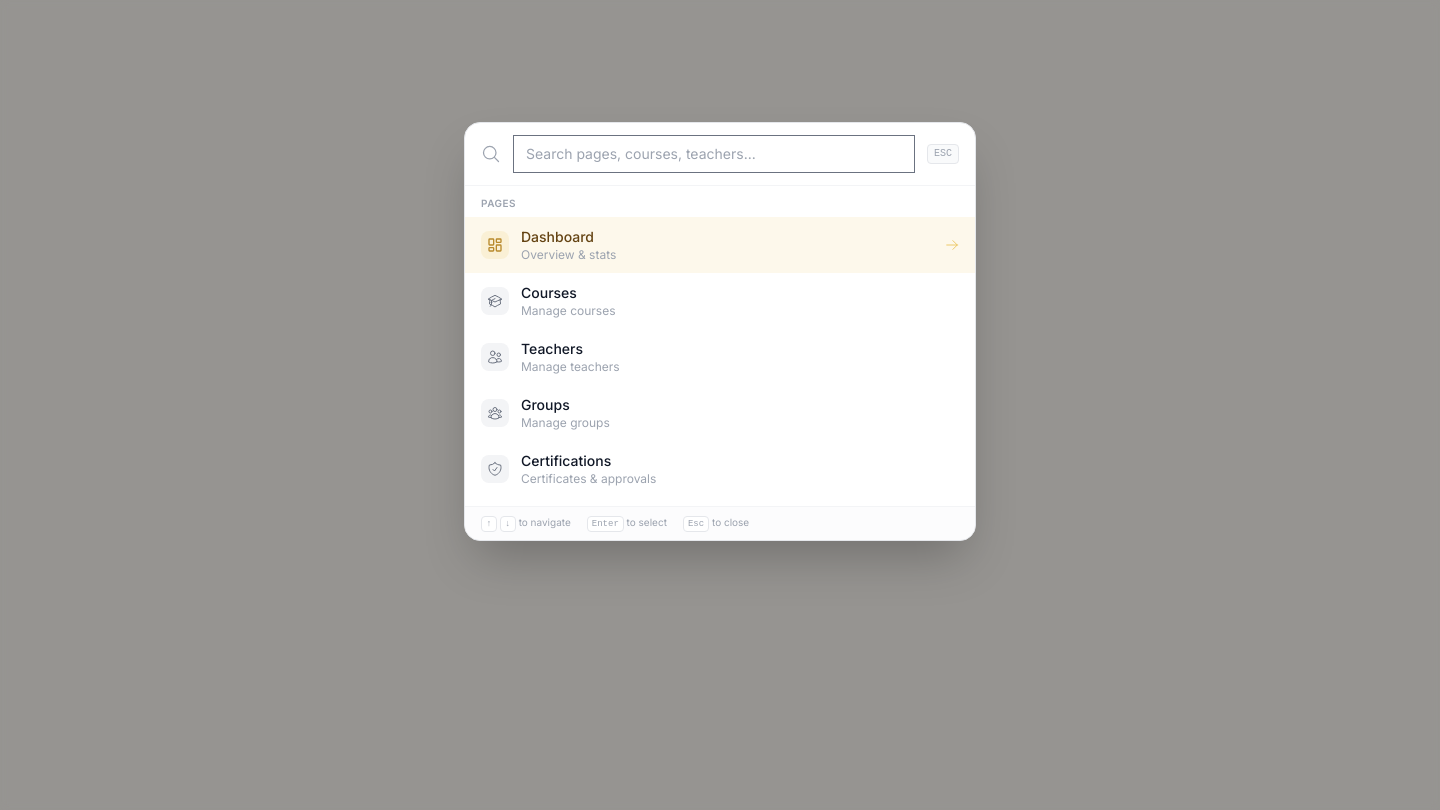
Test: CommandPalette — teacher search › shows Teachers section header when teacher results appear
Type "bob" into the field with placeholder "Search pages, courses, teachers..." at x=714, y=154, box [513,134,915,172]
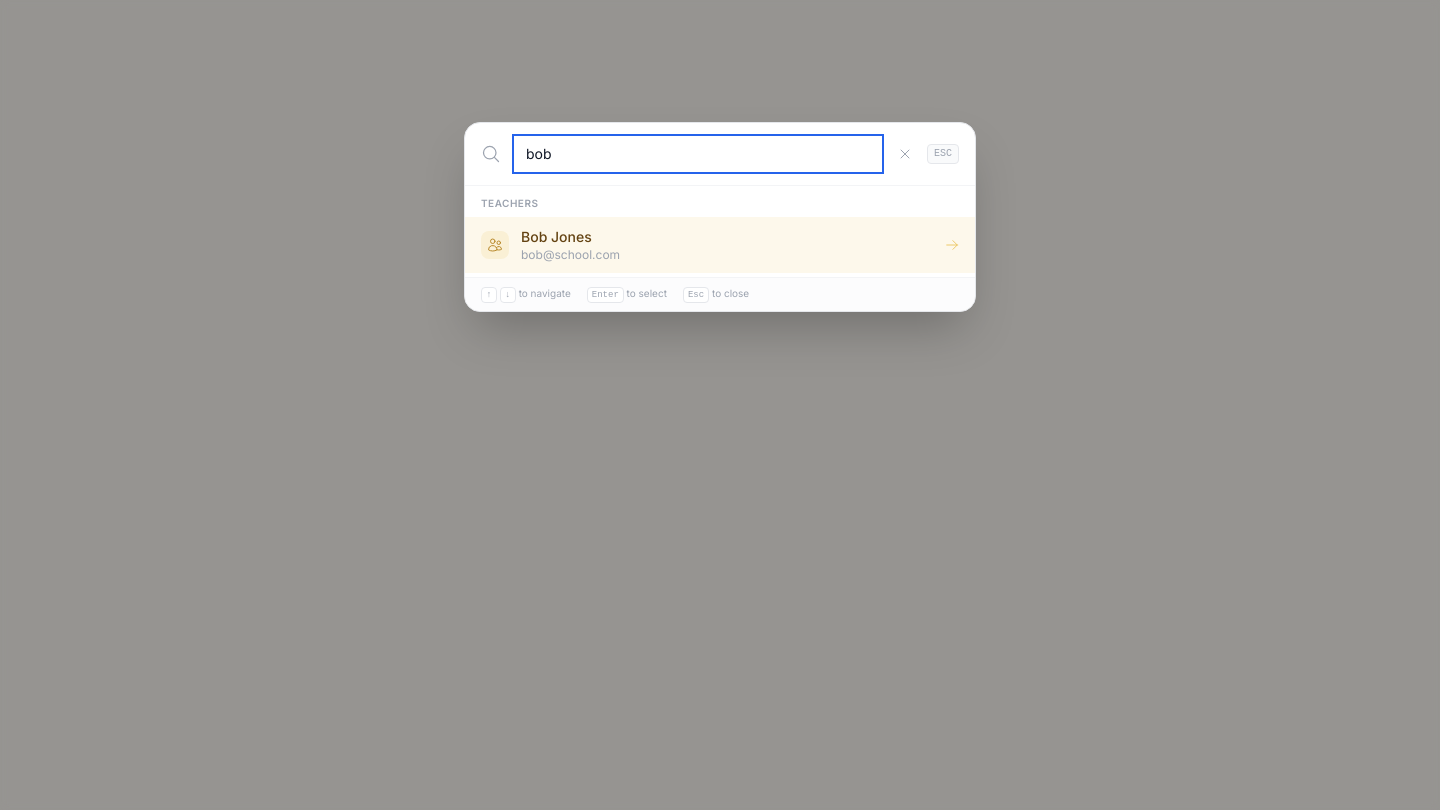
Now the text "Teachers" is shown, box [481,196,538,208]
